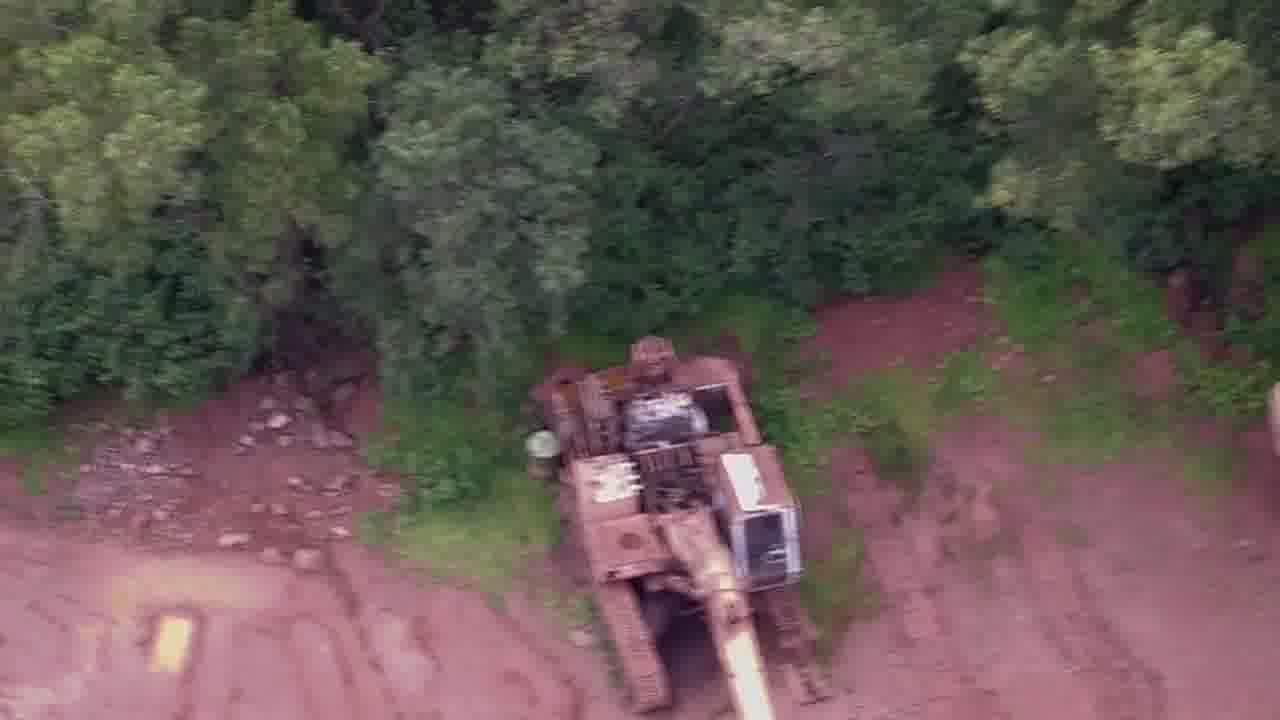HMV: (530, 337, 811, 714)
